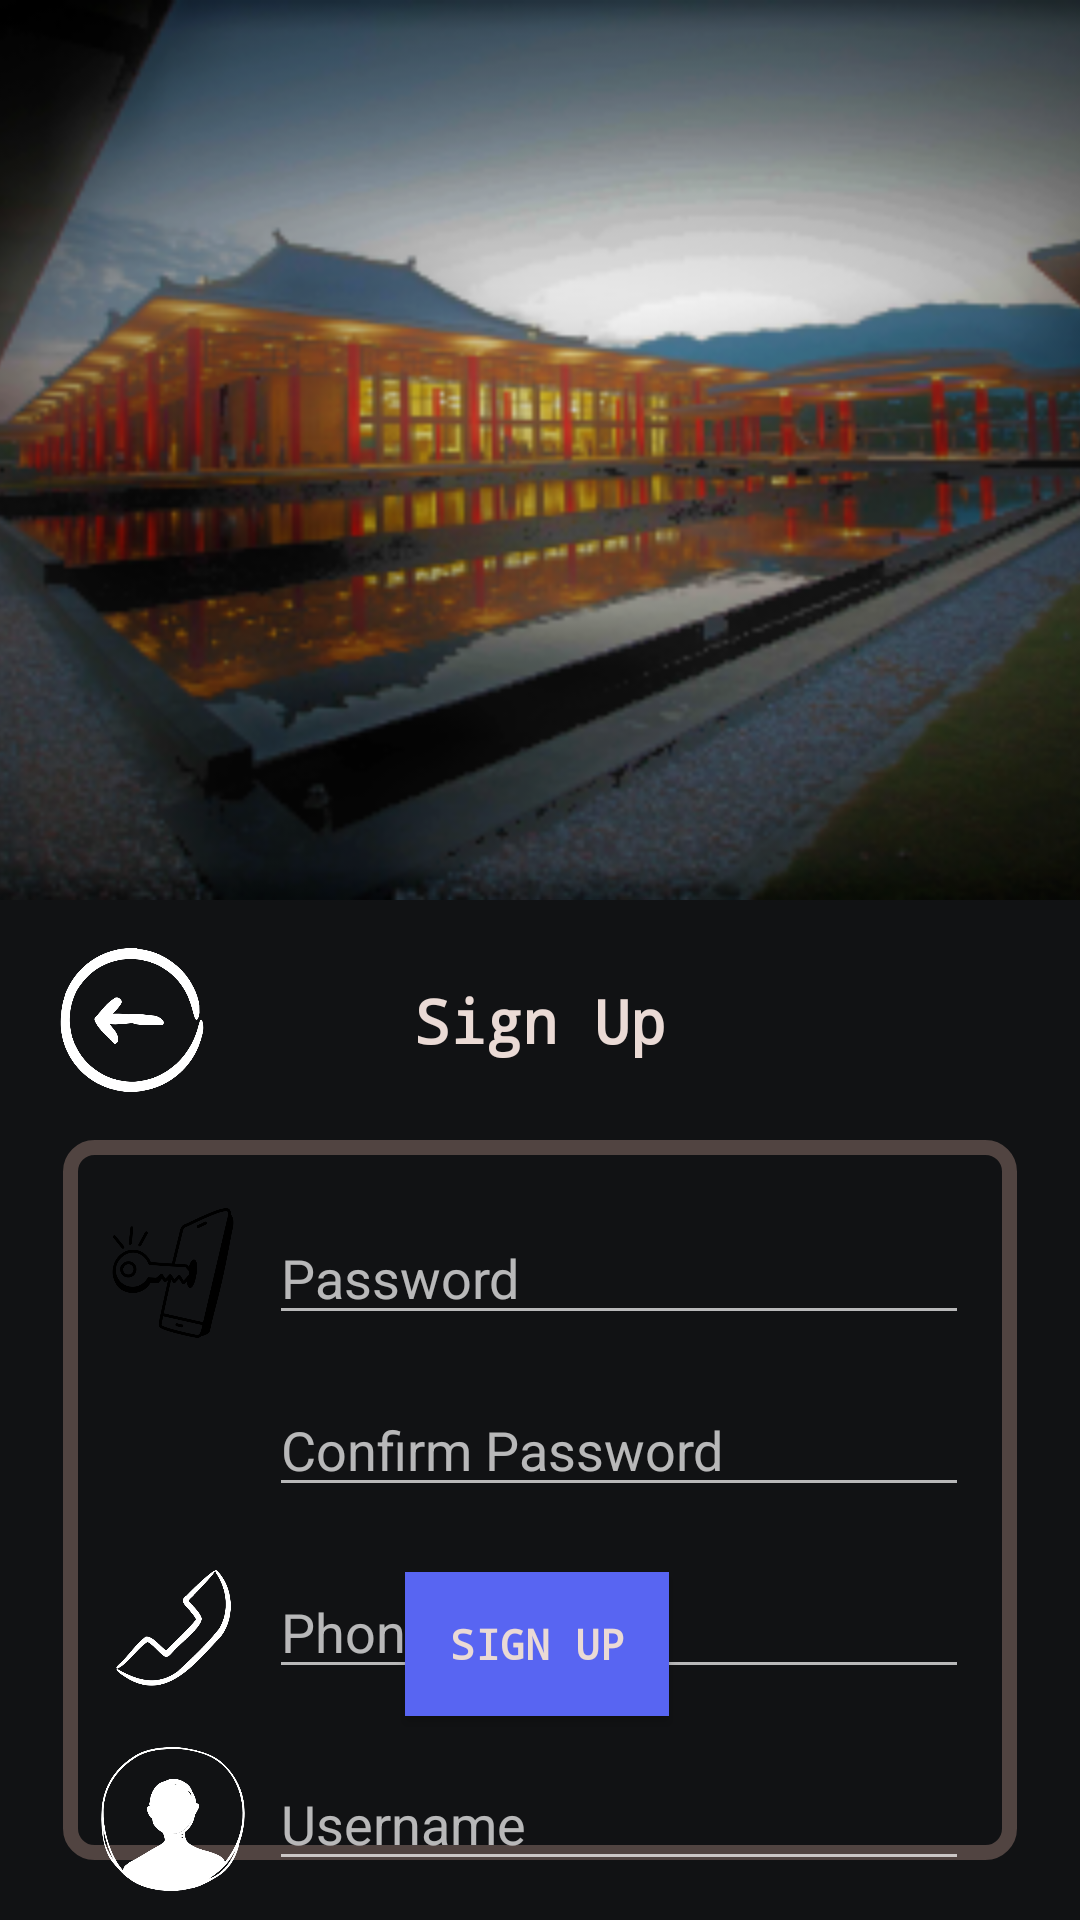

Icon click points for this 1080w x 1920h phone screenshot, format (x=x, y=y):
left: (x=132, y=1020)
telephone: (x=173, y=1628)
